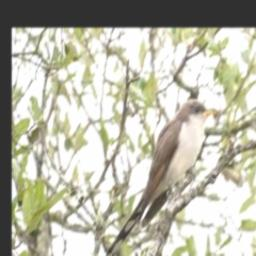Cuckoo: (101, 98, 214, 256)
